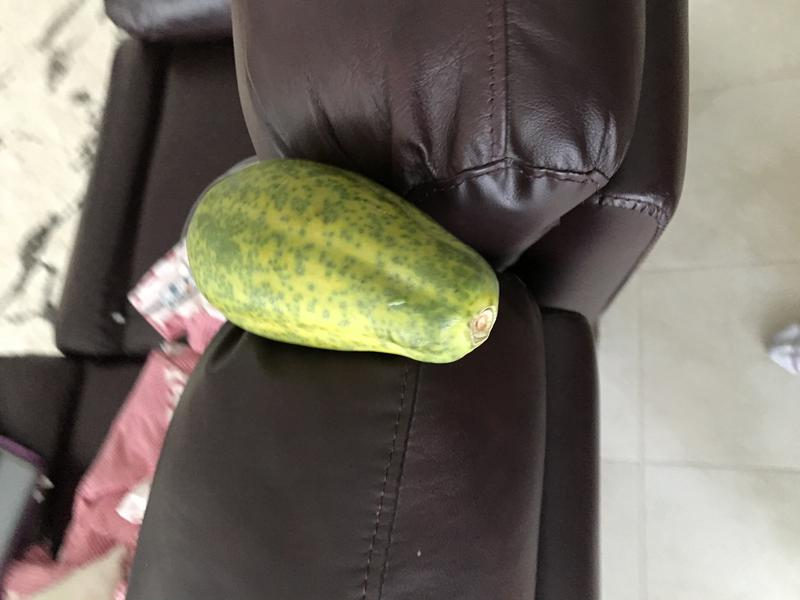papaya: (174, 146, 511, 373)
